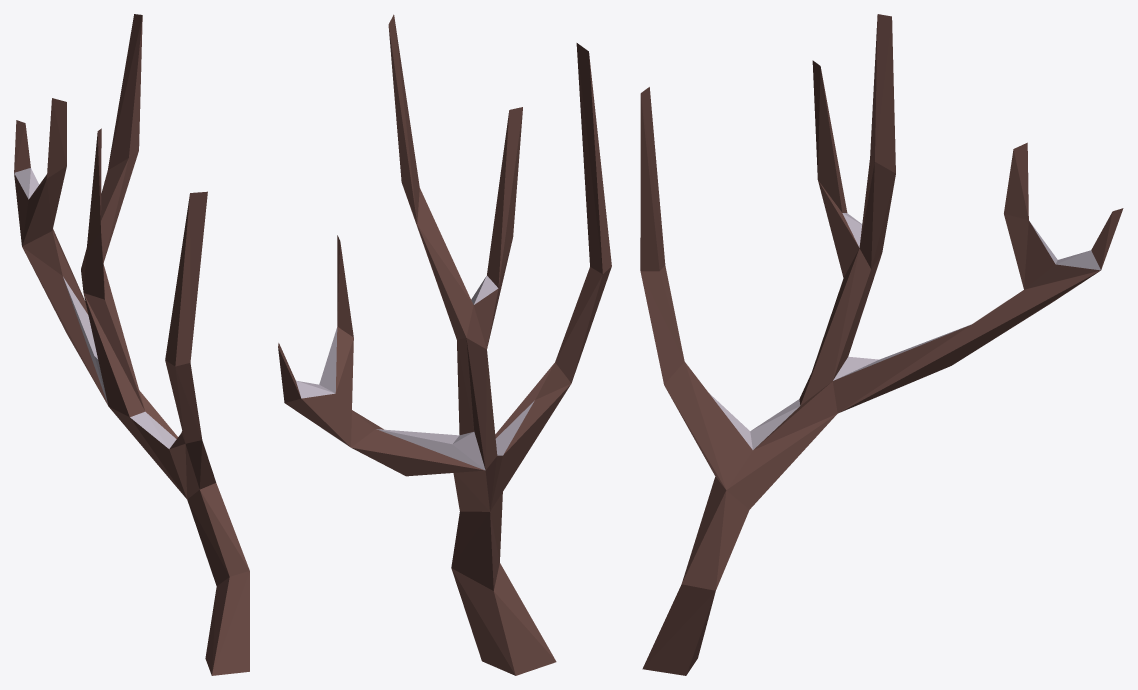
Rendered from Willow_Dead_Snow_1.lod3.glb.
3 views of the same model, side by side, from view 1: azimuth 30°, elevation 25°; view 2: azimuth 150°, elevation 25°; view 3: azimuth 270°, elevation 25° (orthographic). The views are drawn at different scales.
Parts seen in each view (by area): view 1: Willow_Dead_Snow_1; view 2: Willow_Dead_Snow_1; view 3: Willow_Dead_Snow_1.
Boxes of the visible parts, x1=… form: Willow_Dead_Snow_1: x1=14, y1=14, x2=249, y2=675; Willow_Dead_Snow_1: x1=278, y1=14, x2=611, y2=675; Willow_Dead_Snow_1: x1=640, y1=14, x2=1123, y2=675.
Bounding box in the file's own units: 0.486 × 2.69 × 1.8.
